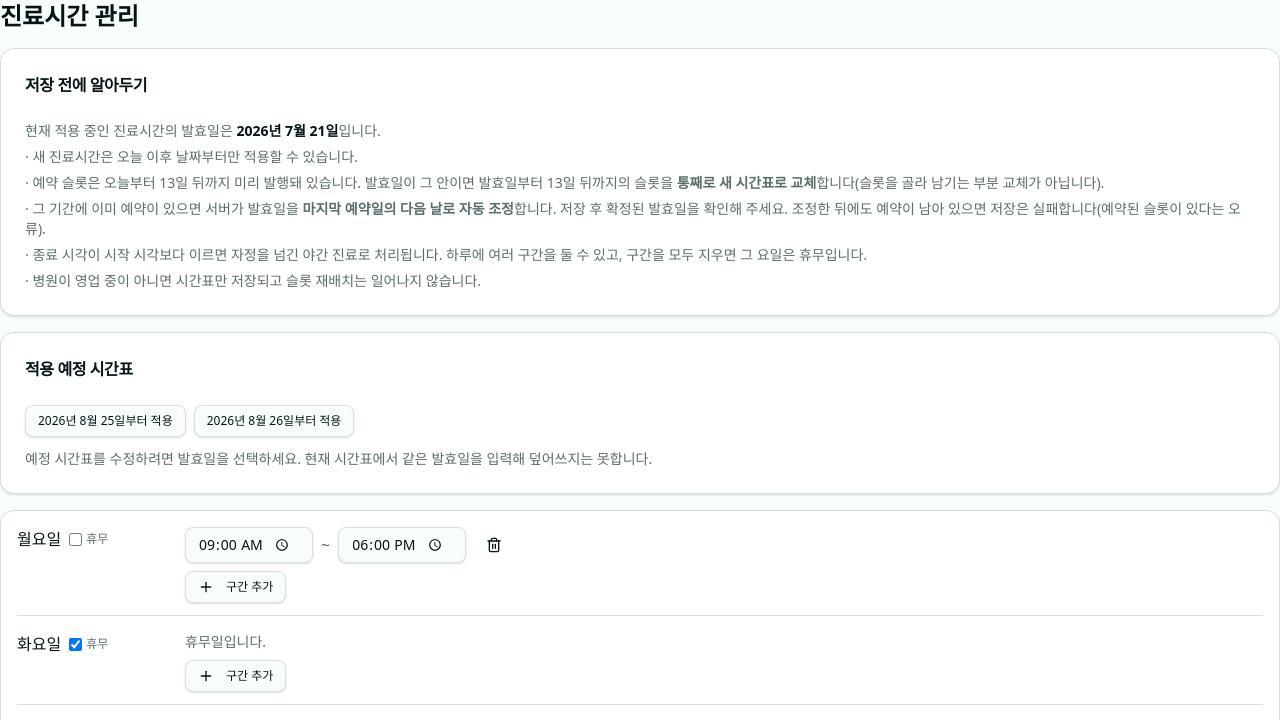
Test: StaffOperatingHoursPage › 미저장 편집 중에는 다른 예정 시간표를 선택해 드래프트를 잃지 않는다
Click the button "2026년 8월 25일부터 적용".
click(105, 421)  # box [25,405,186,437]
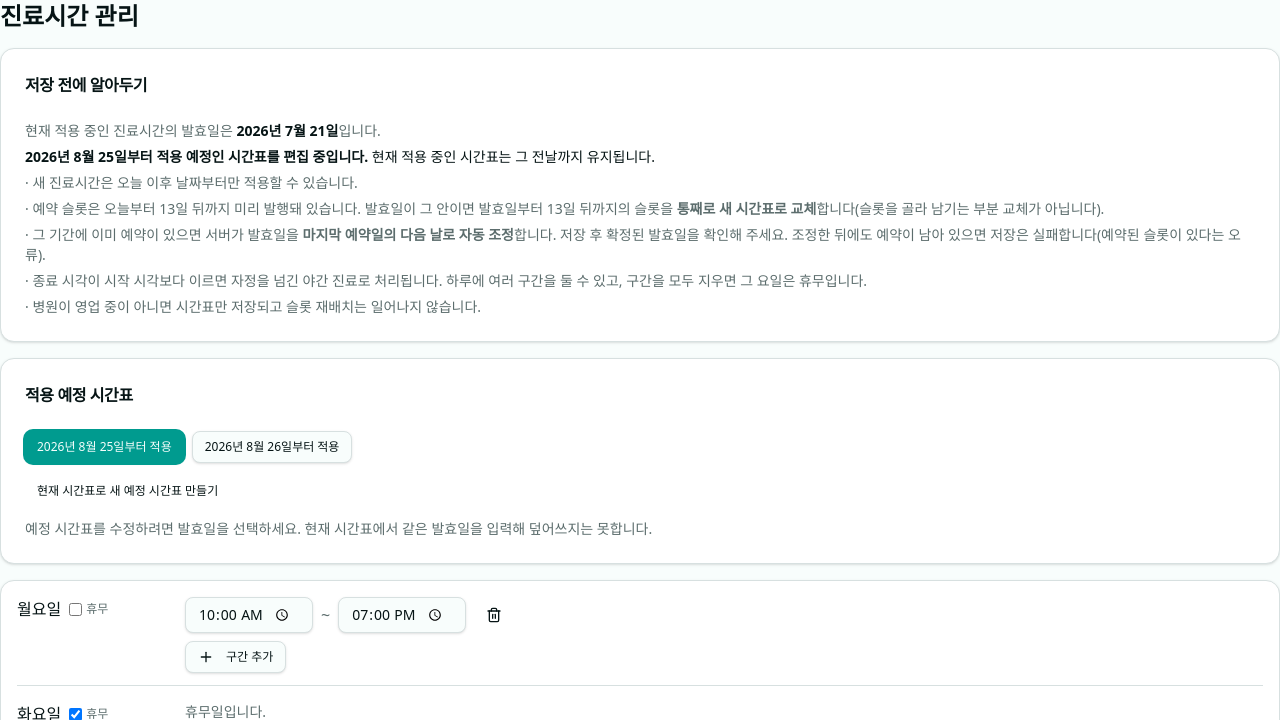
Replace the text in the time field named "월요일 1번째 구간 시작 시각" with "11:00" at (249, 615), box [185,597,313,633]
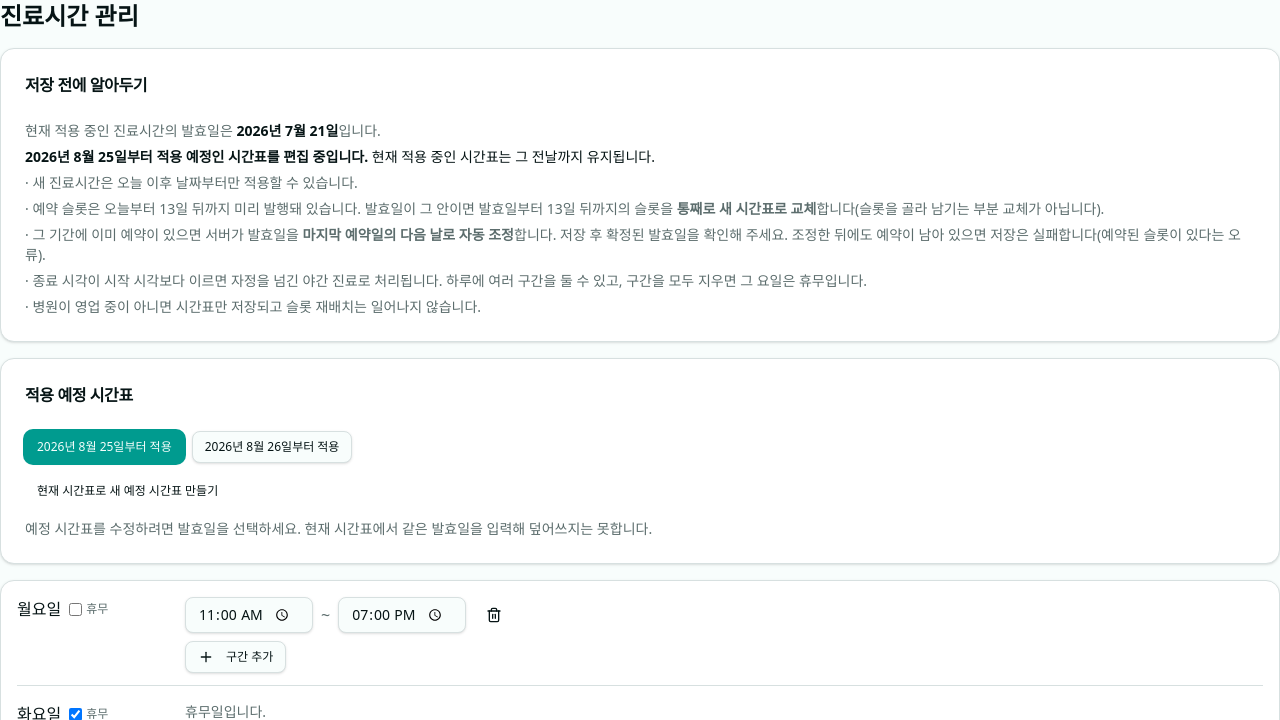
Click the button "2026년 8월 26일부터 적용".
click(272, 447)  # box [192,431,352,463]
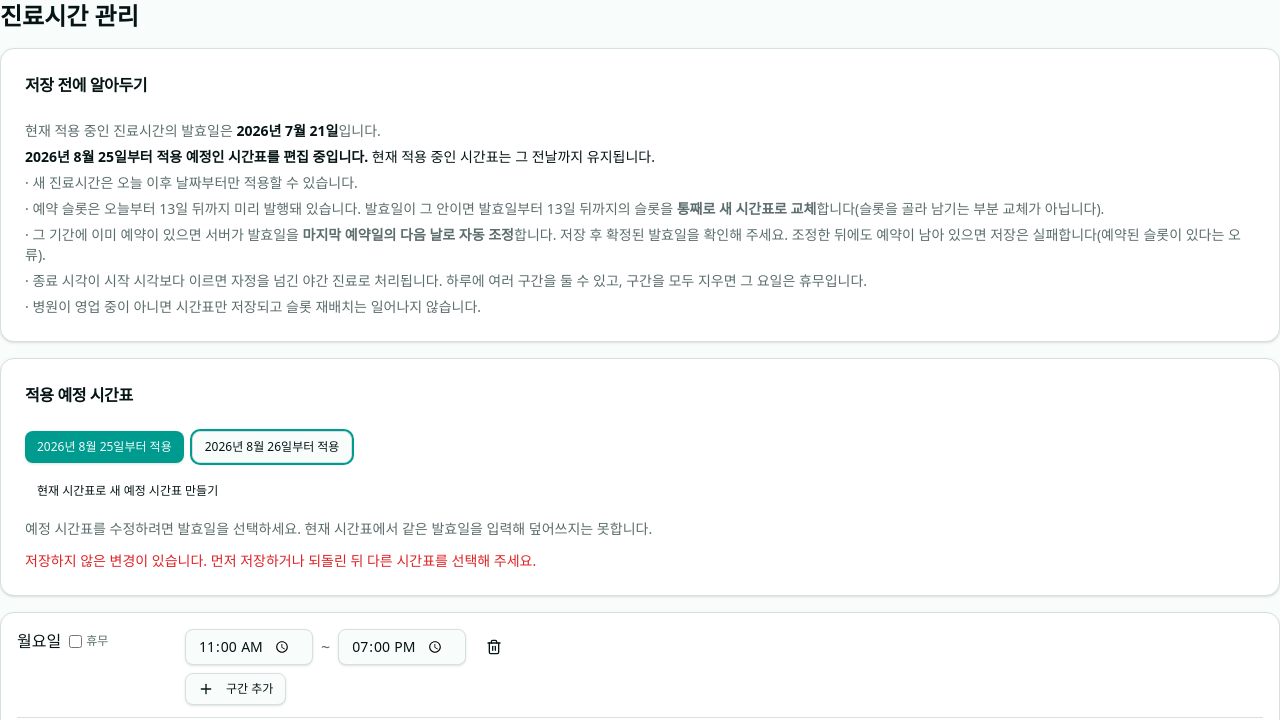
Expected: the text "2026년 8월 25일부터 적용 예정인 시간표를 편집 중입니다." is shown, [25,147,368,166]
Expected: the text "저장하지 않은 변경이 있습니다. 먼저 저장하거나 되돌린 뒤 다른 시간표를 선택해 주세요." is shown, [25,551,536,570]
